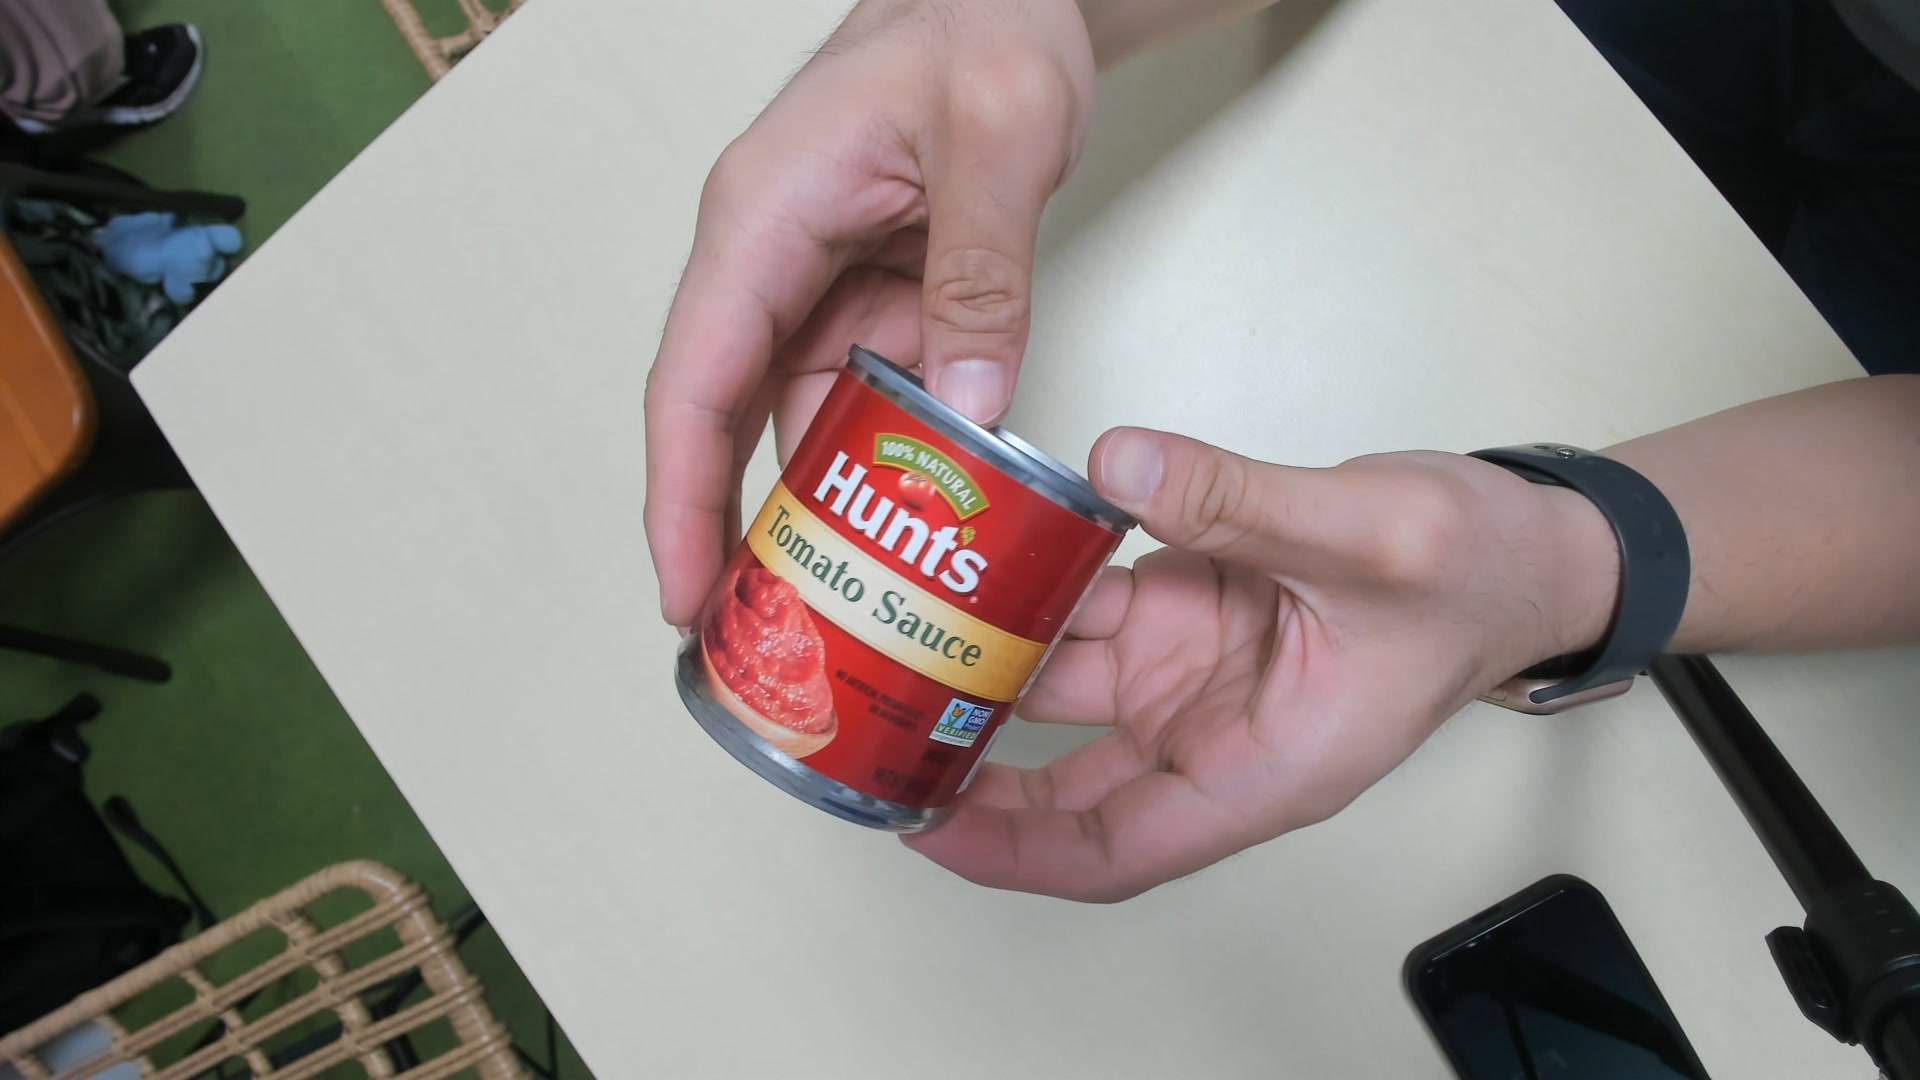OtherSauceDressing_200-299g_NonHalal_NonHealthy: (674, 353, 1139, 851)
